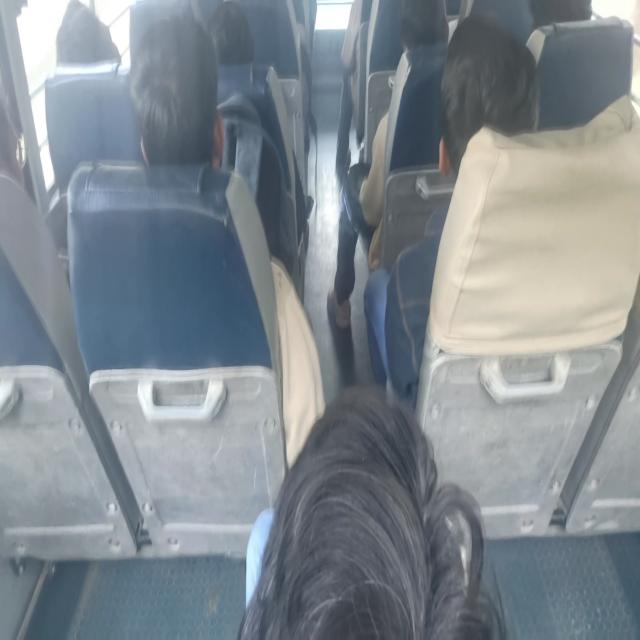person: (129, 10, 325, 466), (363, 12, 540, 407), (238, 384, 507, 638), (326, 0, 449, 333), (438, 13, 540, 178), (129, 13, 224, 168), (54, 0, 121, 66)
